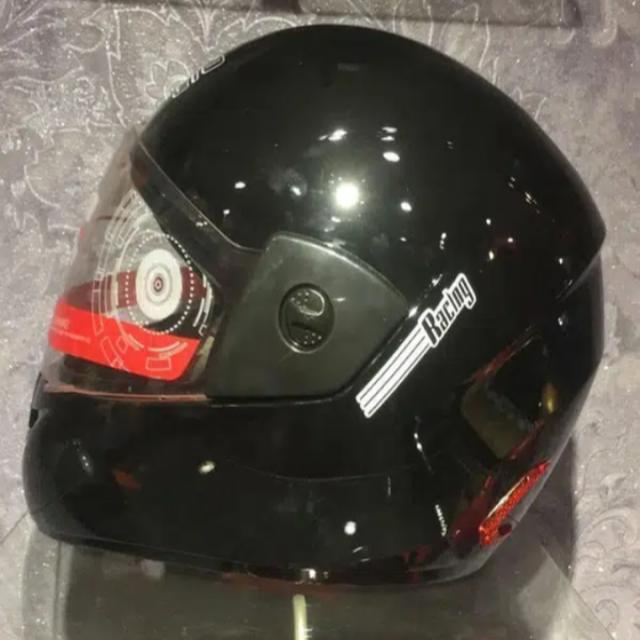Helmet: (42, 14, 608, 599)
